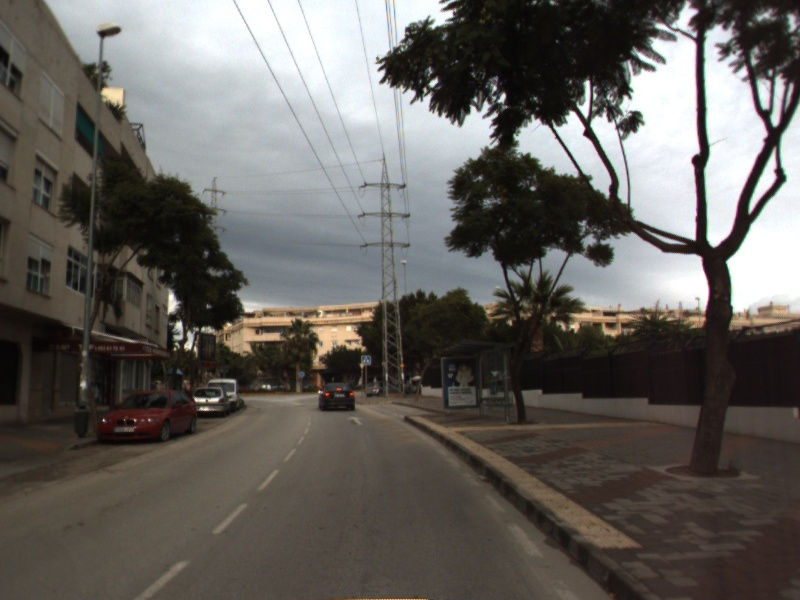STRAIGHT: (344, 414, 367, 428)
